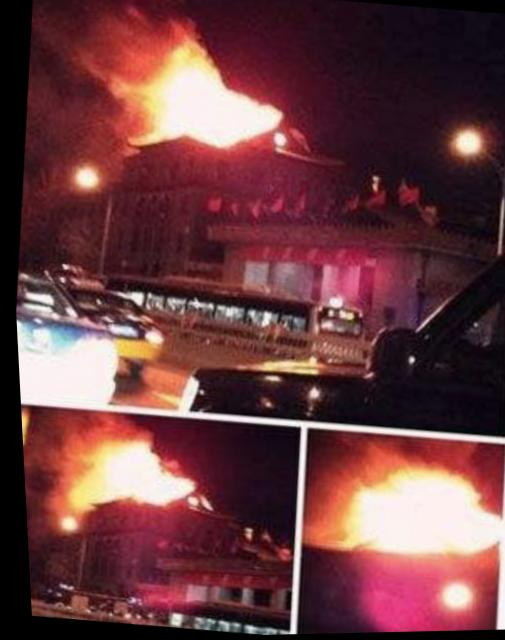fire: (122, 34, 291, 158), (334, 458, 493, 568), (57, 428, 195, 521)
